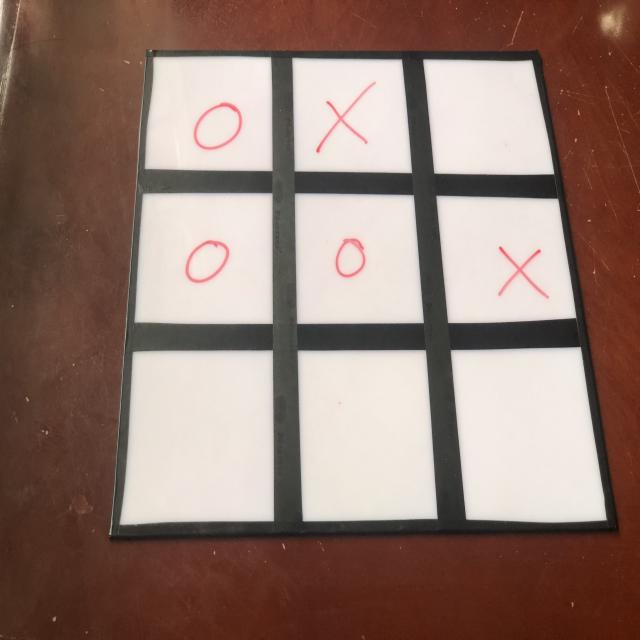null: (110, 347, 277, 522), (453, 346, 608, 524), (292, 345, 440, 526), (423, 55, 553, 182)
o: (193, 93, 243, 157), (185, 235, 231, 290), (334, 235, 370, 282)
table: (104, 45, 621, 536)
x: (318, 80, 375, 152), (493, 238, 550, 302)
